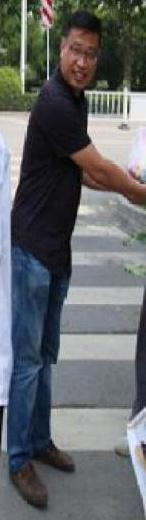no hat: (41, 1, 114, 102)
no vest: (15, 74, 114, 300)
